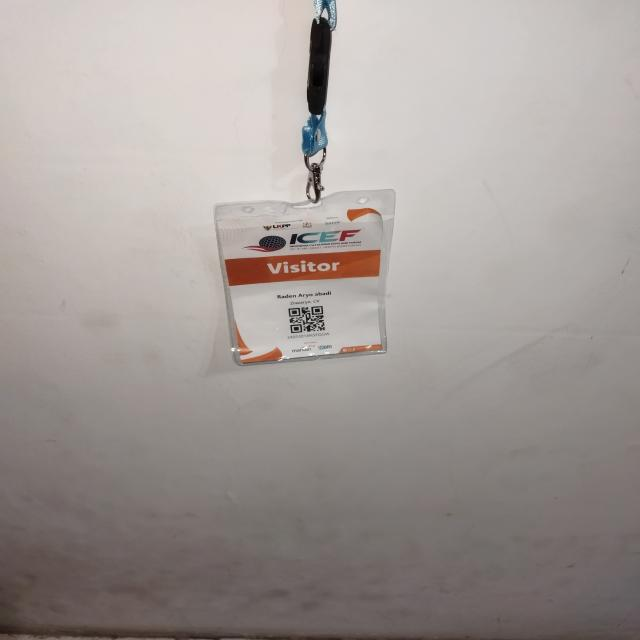ID_card: (212, 189, 396, 366)
